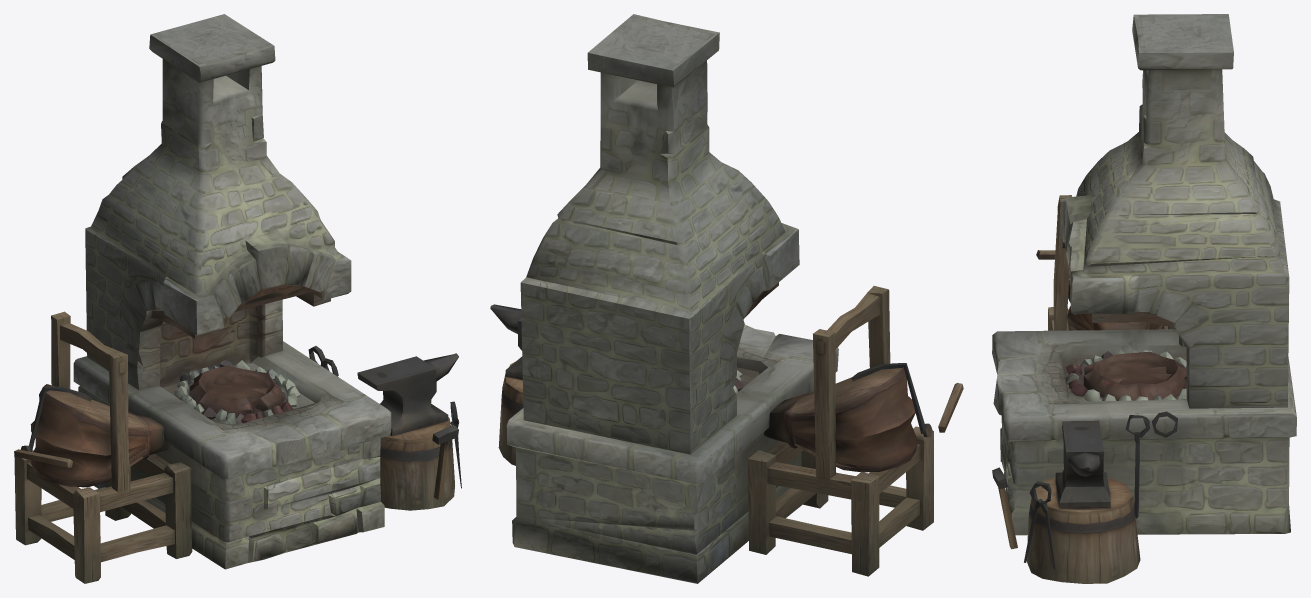
Rendered from Forge.glb.
3 views of the same model, side by side, from view 1: azimuth 30°, elevation 25°; view 2: azimuth 150°, elevation 25°; view 3: azimuth 270°, elevation 25° (orthographic). The views are drawn at different scales.
Visible parts, largest first — view 1: Forge; view 2: Forge; view 3: Forge.
Part boxes in pixels (x1,y1,x2,y2): Forge: [14, 14, 461, 583]; Forge: [490, 14, 963, 583]; Forge: [992, 14, 1296, 583].
Size of the model in its own units: 2.6 by 2.59 by 1.55.
Materials: 1 (1 with a texture image).
